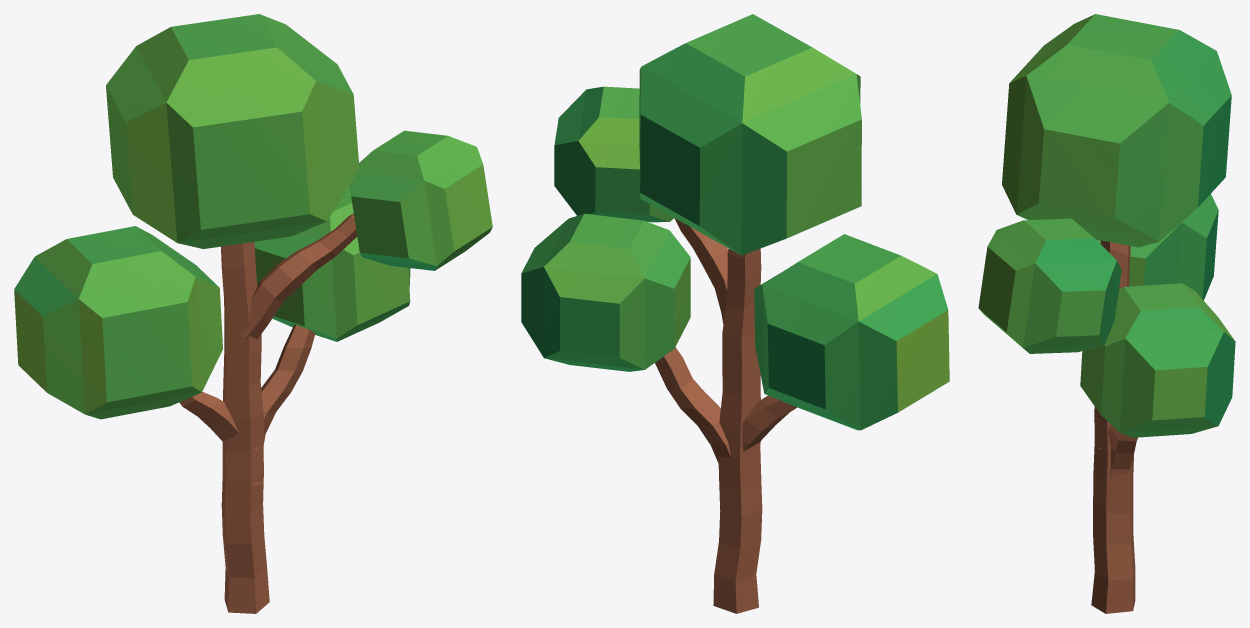
Rendered from ARBOL REDONDO.fbx.
The picture shows the model from 3 angles, left to right: view 1: azimuth 30°, elevation 25°; view 2: azimuth 150°, elevation 25°; view 3: azimuth 270°, elevation 25°; orthographic projection.
Visible parts, largest first — view 1: arboles.001; view 2: arboles.001; view 3: arboles.001.
Part boxes in pixels (bbox=[...]): arboles.001: bbox=[14, 14, 492, 613]; arboles.001: bbox=[521, 14, 949, 613]; arboles.001: bbox=[978, 14, 1235, 613].
Size of the model in its own units: 711 by 386 by 937.
Materials: 1 (1 with a texture image).
